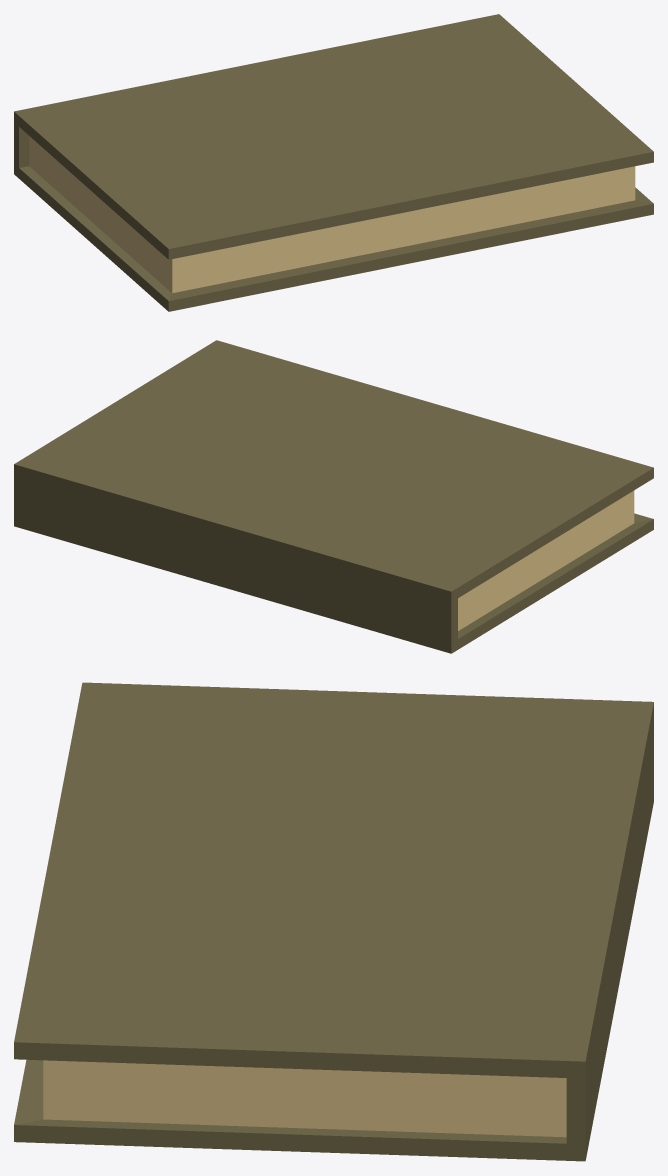
Rendered from Book1_021.fbx.
3 views of the same model, one above another, from view 1: azimuth 30°, elevation 25°; view 2: azimuth 150°, elevation 25°; view 3: azimuth 270°, elevation 25° (orthographic). The views are drawn at different scales.
Parts seen in each view (by area): view 1: Book1.021; view 2: Book1.021; view 3: Book1.021.
Part boxes in pixels (bbox=[...]): Book1.021: bbox=[14, 14, 653, 311]; Book1.021: bbox=[14, 340, 653, 653]; Book1.021: bbox=[14, 682, 653, 1161].
Bounding box in the file's own units: 53.77 × 6.6 × 38.36.
